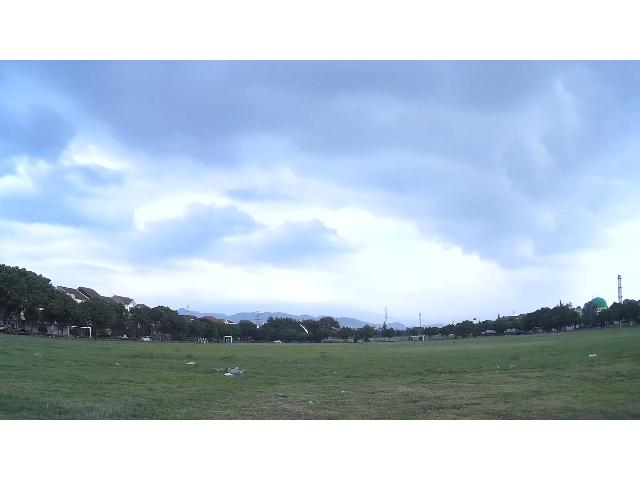Anti-Drone: (300, 324, 308, 334)
